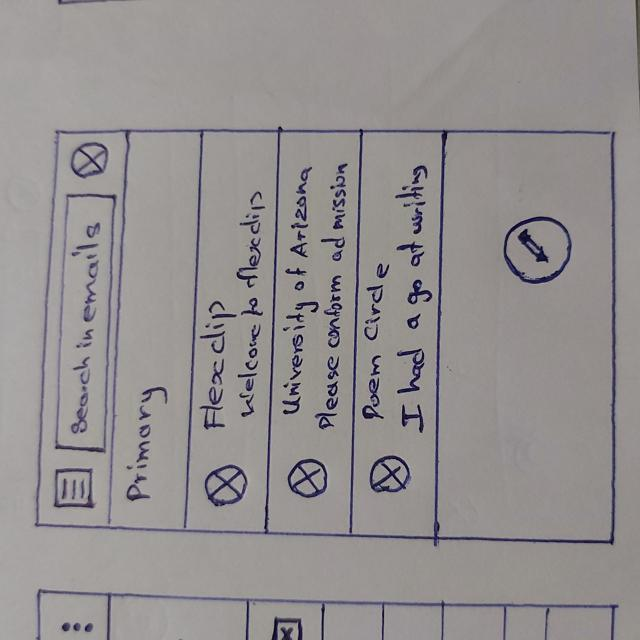AppBar: (34, 128, 122, 536)
DrawerToggleButton: (55, 467, 94, 511)
EditText: (59, 190, 106, 456)
Fab: (503, 214, 575, 284)
Layout: (355, 124, 439, 537), (275, 124, 352, 538), (193, 128, 271, 533)
ListView: (186, 131, 441, 538)
MainLayout: (33, 123, 620, 546)
RoundedImage: (204, 462, 250, 509), (287, 457, 330, 501), (368, 454, 413, 495), (69, 140, 110, 181)
TextView: (394, 161, 433, 433), (284, 166, 313, 419), (322, 161, 347, 430), (358, 260, 392, 425), (242, 190, 264, 419), (128, 384, 169, 501), (204, 299, 227, 433)
VerticalListView: (182, 130, 440, 538)
